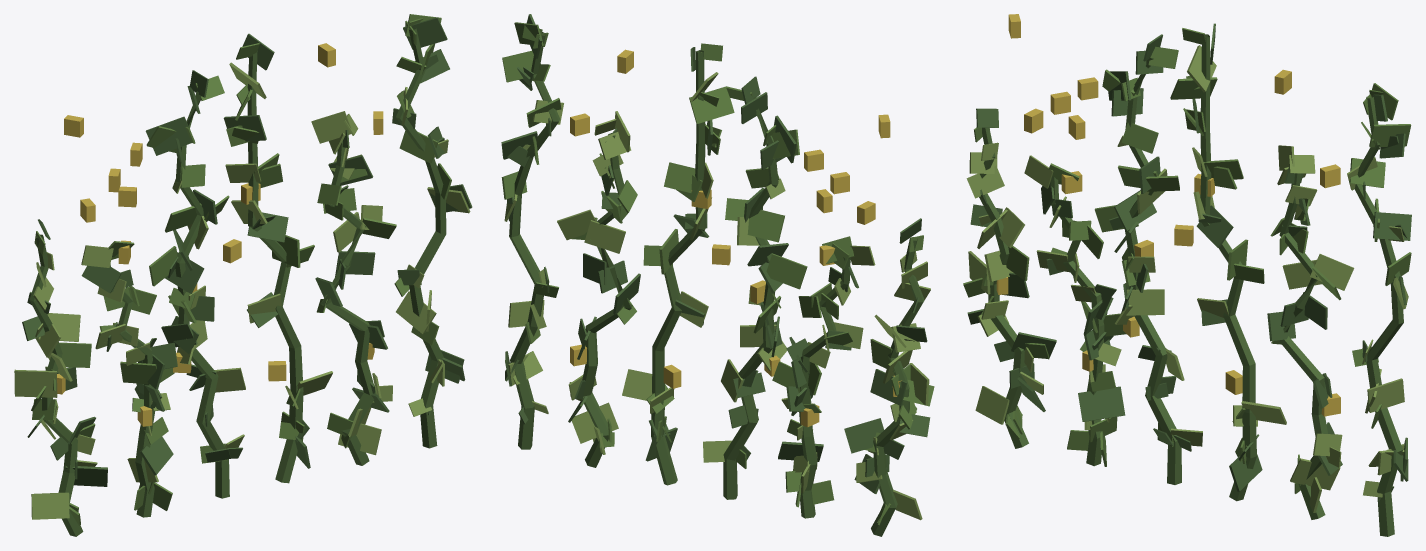
The model's file is VN_Flowering.glb.
3 views of the same model, side by side, from view 1: azimuth 30°, elevation 25°; view 2: azimuth 150°, elevation 25°; view 3: azimuth 330°, elevation 25° (orthographic). The views are drawn at different scales.
Parts seen in each view (by area): view 1: VN_Flowering; view 2: VN_Flowering; view 3: VN_Flowering.
Boxes of the visible parts, x1,y1,x2,y2 form: VN_Flowering: [14, 14, 472, 536]; VN_Flowering: [501, 14, 934, 536]; VN_Flowering: [963, 14, 1411, 536].
Bounding box in the file's own units: 2.61 × 2.54 × 0.296.
